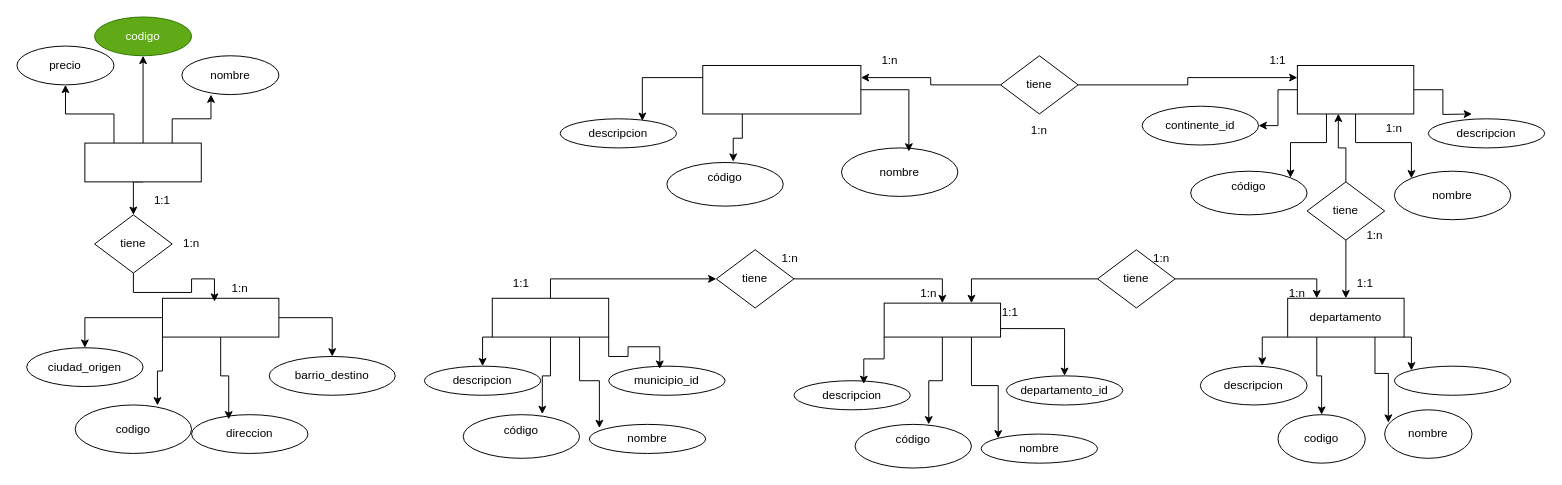
Some shapes in this 1562 by 485 pixel diagram are drawn without their labels. The centre of each missing label's shape, as x and y in pixels:
"barrio" belongs at [550,317].
"continente" belongs at [781,89].
"municipio" belongs at [942,319].
"pais" belongs at [1355,89].
"pais_id" belongs at [1452,380].
"pedido" belongs at [220,317].
"producto" belongs at [142,162].
